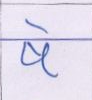e_matra: (25, 19, 55, 36)
